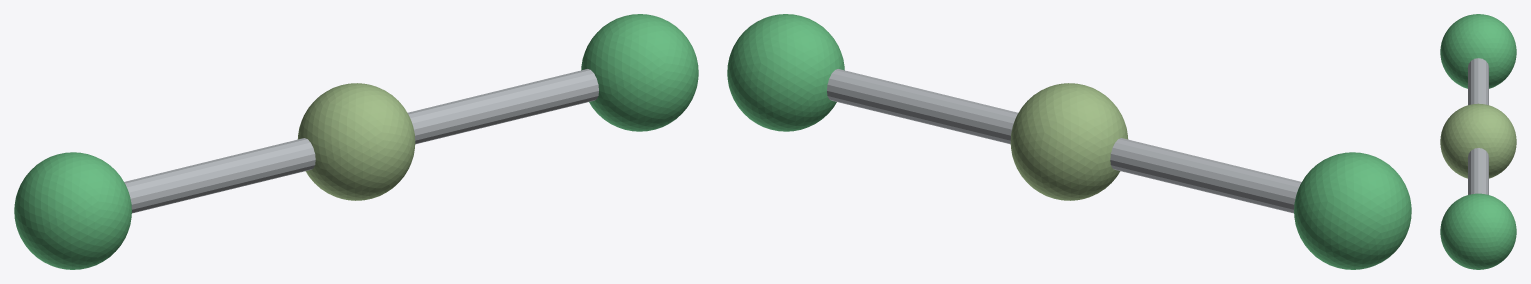
File: cloreto_berilio_BeCl2.glb
The picture shows the model from 3 angles, left to right: view 1: azimuth 30°, elevation 25°; view 2: azimuth 150°, elevation 25°; view 3: azimuth 270°, elevation 25°; orthographic projection. The views are drawn at different scales.
Parts seen in each view (by area): view 1: Cl_0, Cl_2, Be_1, bond_0_1_0, bond_1_2_0; view 2: Cl_0, Cl_2, Be_1, bond_0_1_0, bond_1_2_0; view 3: Cl_2, Cl_0, Be_1, bond_0_1_0, bond_1_2_0.
Boxes of the visible parts, left/top/right/bottom form: Cl_0: left=14, top=152, right=131, bottom=269; Cl_2: left=581, top=14, right=698, bottom=131; Be_1: left=297, top=83, right=415, bottom=200; bond_0_1_0: left=124, top=138, right=315, bottom=213; bond_1_2_0: left=407, top=69, right=598, bottom=144; Cl_0: left=1294, top=152, right=1411, bottom=269; Cl_2: left=727, top=14, right=844, bottom=131; Be_1: left=1010, top=83, right=1128, bottom=200; bond_0_1_0: left=1110, top=138, right=1301, bottom=213; bond_1_2_0: left=827, top=69, right=1018, bottom=144; Cl_2: left=1440, top=193, right=1516, bottom=269; Cl_0: left=1440, top=14, right=1516, bottom=88; Be_1: left=1440, top=103, right=1516, bottom=178; bond_0_1_0: left=1468, top=58, right=1488, bottom=104; bond_1_2_0: left=1468, top=148, right=1488, bottom=194.
Size of the model in its own units: 3.54 by 0.54 by 0.54.
